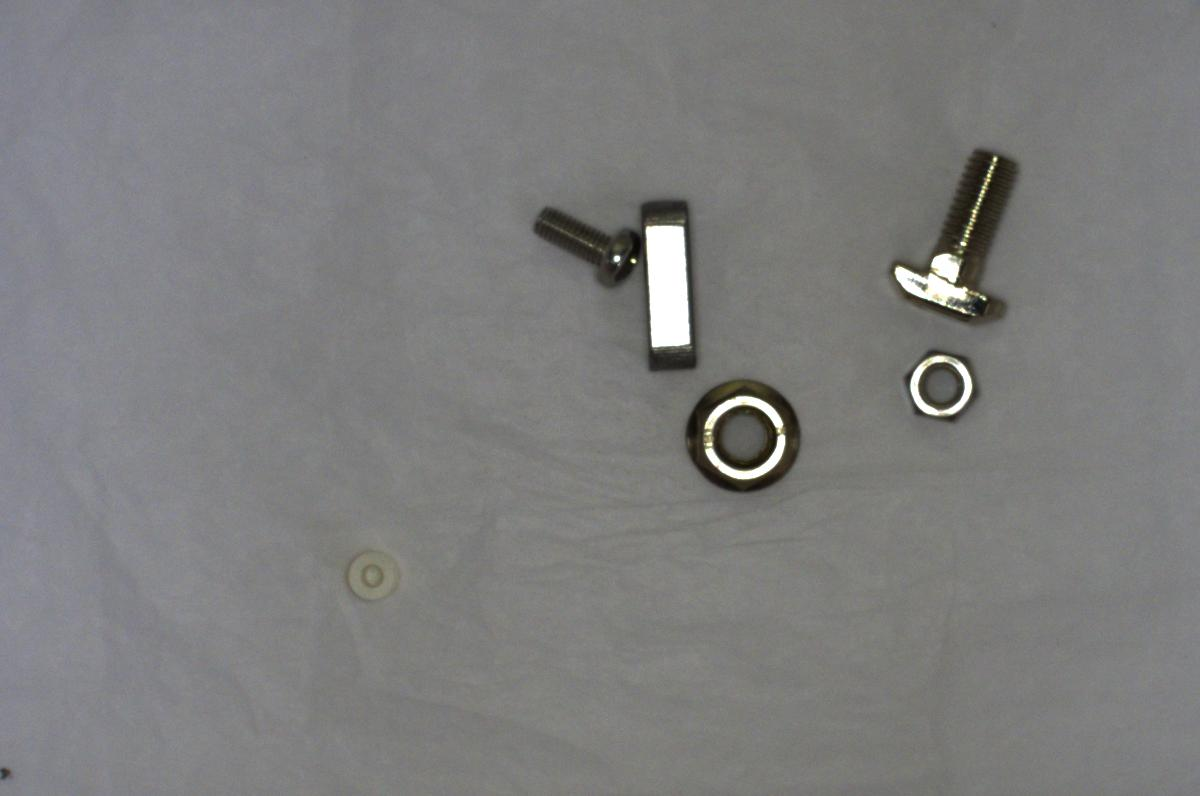Flange nut: (676, 368, 808, 496)
Hexagon nut: (896, 341, 987, 431)
Keybar: (634, 180, 710, 371)
Plastic cushion pillar: (341, 541, 410, 608)
Round head screw: (516, 195, 638, 289)
T-shaped screw: (880, 136, 1019, 327)
